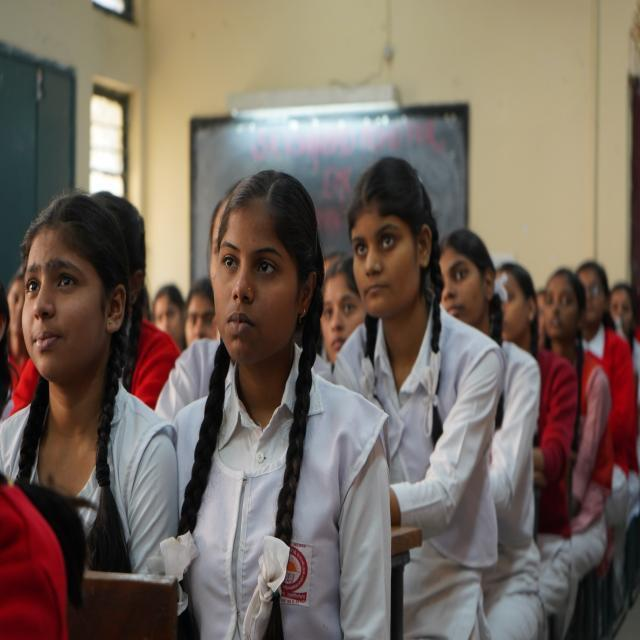Looking forward: (22, 228, 110, 380), (213, 197, 294, 360), (349, 208, 415, 316), (436, 245, 488, 322), (321, 276, 358, 360), (545, 274, 577, 339)
